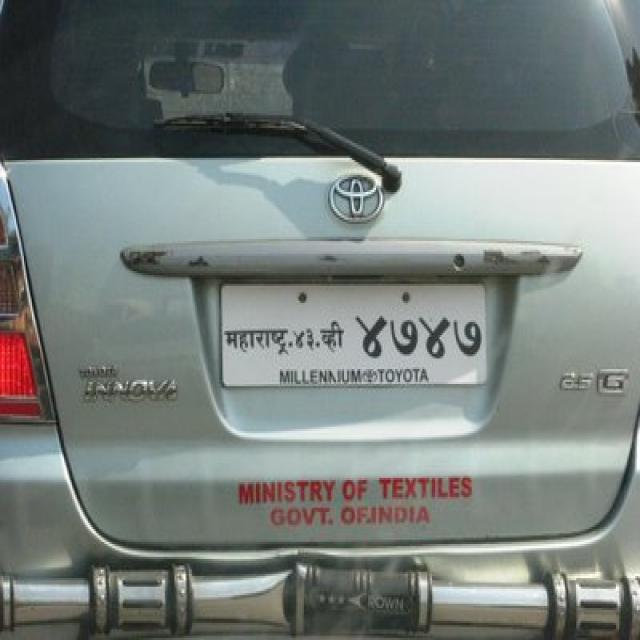license-plate: (219, 282, 485, 386)
